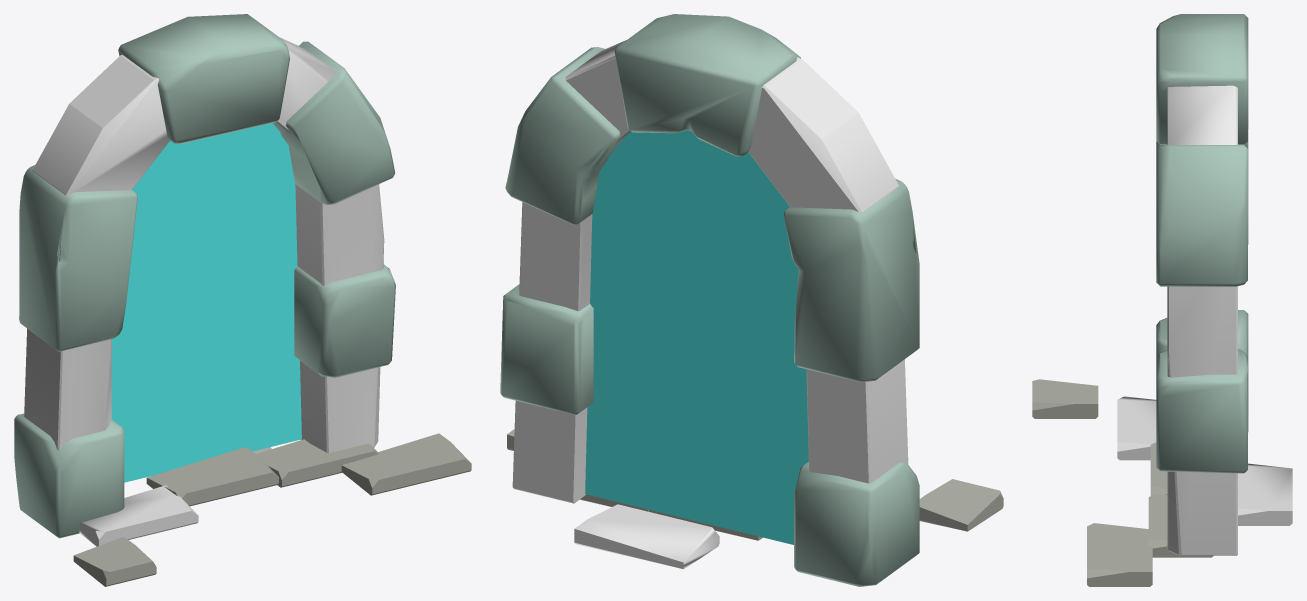
The model's file is portalRightc.fbx.
The picture shows the model from 3 angles, left to right: view 1: azimuth 30°, elevation 25°; view 2: azimuth 150°, elevation 25°; view 3: azimuth 270°, elevation 25°; orthographic projection. The views are drawn at different scales.
Parts seen in each view (by area): view 1: PortalBlocks001, Plane, Mesh_11.001_1, Mesh_11.001_0; view 2: PortalBlocks001, Plane, Mesh_11.001_1, Mesh_11.001_0; view 3: PortalBlocks001, Mesh_11.001_1, Mesh_11.001_0.
Part boxes in pixels (bbox=[...]): PortalBlocks001: bbox=[14, 14, 471, 586]; Plane: bbox=[111, 123, 301, 482]; Mesh_11.001_1: bbox=[24, 37, 384, 452]; Mesh_11.001_0: bbox=[79, 447, 271, 546]; PortalBlocks001: bbox=[500, 14, 1003, 586]; Plane: bbox=[585, 130, 808, 544]; Mesh_11.001_1: bbox=[512, 40, 908, 503]; Mesh_11.001_0: bbox=[574, 504, 719, 569]; PortalBlocks001: bbox=[1032, 14, 1248, 586]; Mesh_11.001_1: bbox=[1167, 85, 1237, 555]; Mesh_11.001_0: bbox=[1117, 396, 1292, 525].
Size of the model in its own units: 366 by 402 by 209.
